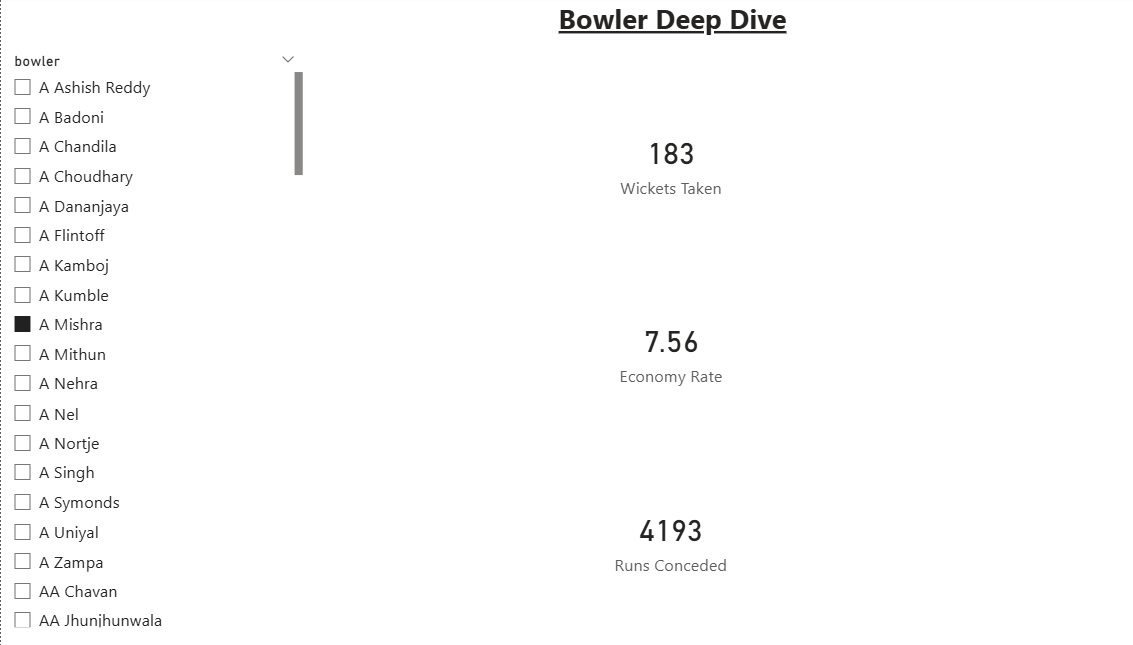

What the dashboard file says about the page in this screenshot:
{"tool":"powerbi","page":{"name":"Page 3","canvas":[1280,720],"ordinal":2},"visuals":[{"type":"textbox","box":[540.5,0,233.6,51.4],"z":0},{"type":"slicer","fields":{"Values":["bowler_full.bowler"]},"box":[0,51.1,300,572.2],"z":1000},{"type":"card","fields":{"Values":["Avg(bowler_full.economy_rate)"]},"box":[300,254.4,712.2,187.8],"z":2000},{"type":"card","fields":{"Values":["Sum(bowler_full.wickets)"]},"box":[300,73.3,712.2,181.1],"z":4000},{"type":"card","fields":{"Values":["Sum(bowler_full.runs_conceded)"]},"box":[299.6,442.7,711.7,181],"z":4001}]}

Visuals, with their boxes in screenshot pixels (x1, y1, x2, y2), scaled from the page's 1280x720 canvas onto the 1133x645 screenshot:
textbox: rect(478, 0, 685, 46)
slicer - bowler_full.bowler: rect(0, 46, 266, 558)
card - Avg(bowler_full.economy_rate): rect(266, 228, 896, 396)
card - Sum(bowler_full.wickets): rect(266, 66, 896, 228)
card - Sum(bowler_full.runs_conceded): rect(265, 397, 895, 559)
